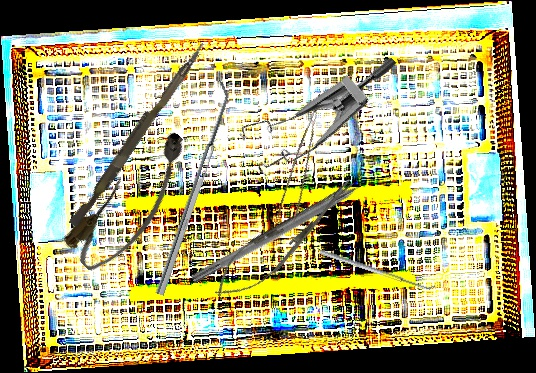Cannula: (58, 123, 208, 281)
Hook Surgical: (190, 172, 380, 287)
Needle Holder: (204, 166, 366, 311)
Pusher: (68, 37, 207, 231)
Spatula Surgical: (147, 81, 236, 296), (319, 245, 436, 293)
Speculum: (226, 11, 400, 199)
Tissue Forceps: (270, 94, 343, 223)
